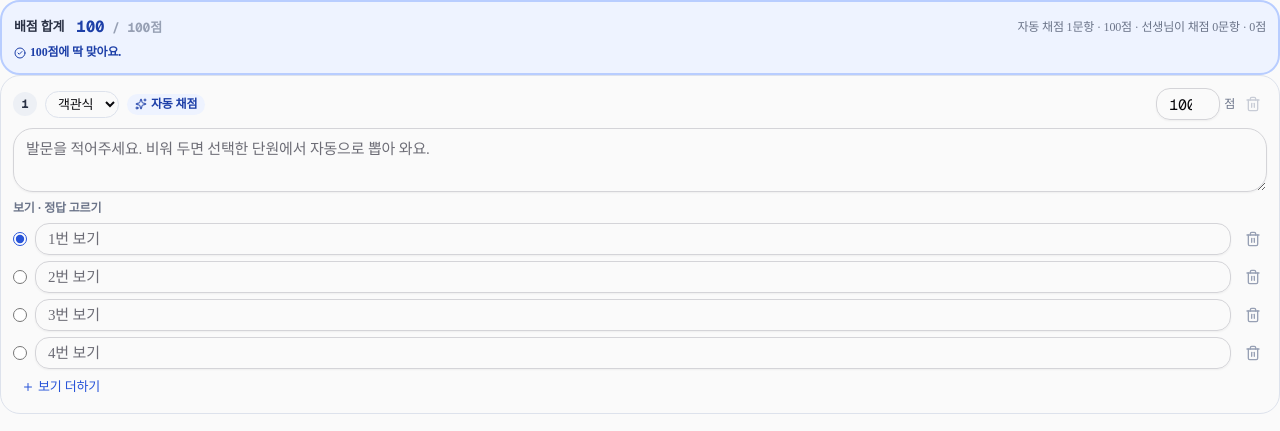
QuestionListEditor › 유형을 서술형으로 바꾸면 채점 방식 배지가 바뀐다
Expected: the element with test id "question-grading-0" reads "자동 채점", [151, 96, 197, 110]
Select "서술형" in the dropdown with test id "question-type-0" at (82, 104), box [45, 90, 119, 118]
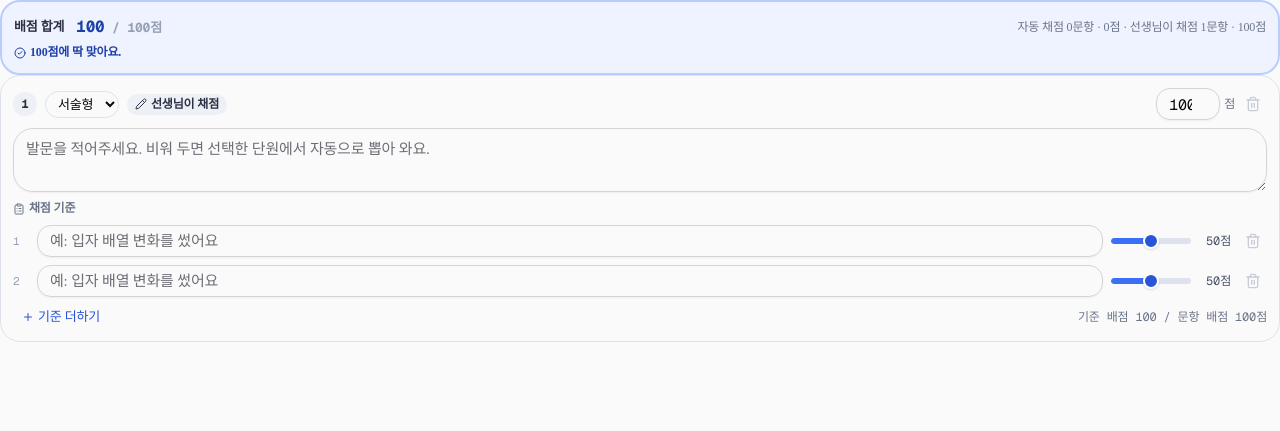
Now the element with test id "question-grading-0" reads "선생님이 채점", box [151, 96, 219, 110]
Select "수치" in the dropdown with test id "question-type-0" at (82, 104), box [45, 90, 119, 118]
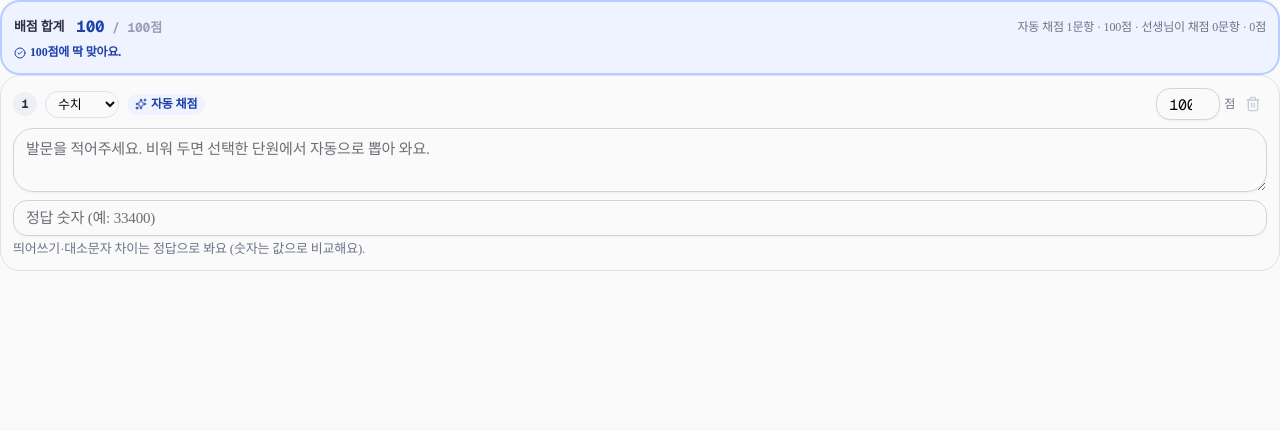
Now the element with test id "question-grading-0" reads "자동 채점", box [151, 96, 197, 110]
